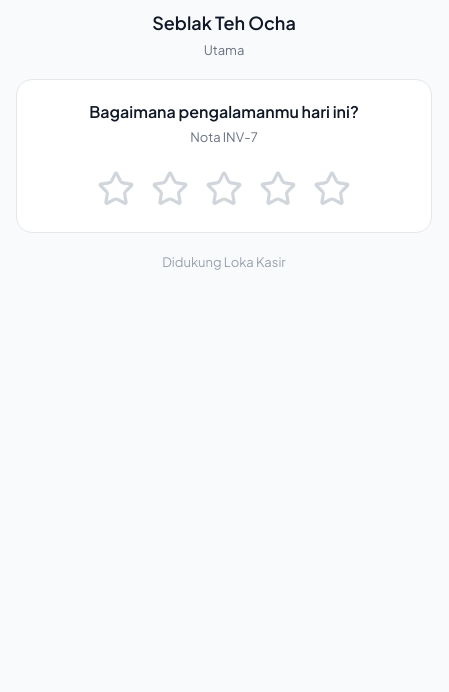
membaca nomor nota dari QR dan mengirim bintang yang dipilih
Click the radio button named "2" at [170, 189], box [147,166,193,212]
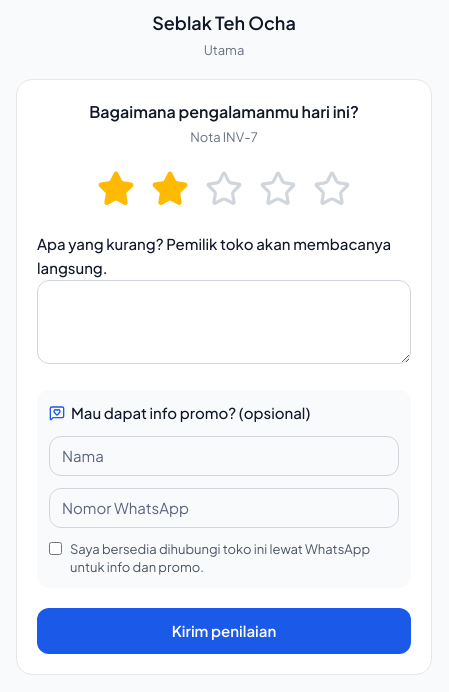
expect the text "Apa yang kurang? Pemilik toko akan membacanya langsung." is shown: met, box [37,234,391,277]
Click the button "Kirim penilaian" at [224, 631], box [37,608,411,654]
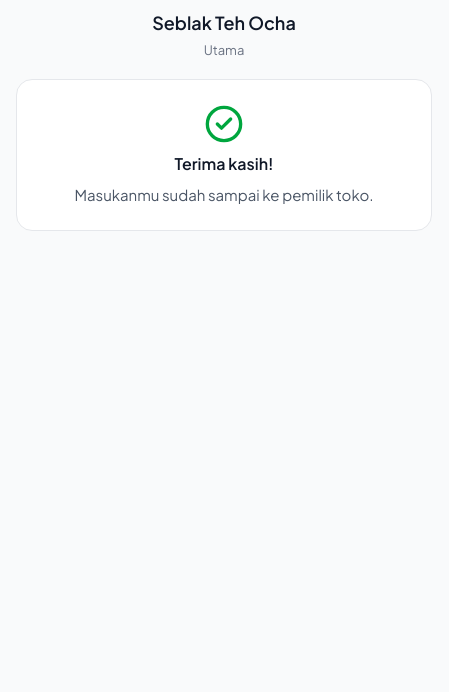
expect the text "Terima kasih!" is shown: met, box [174,153,273,174]
